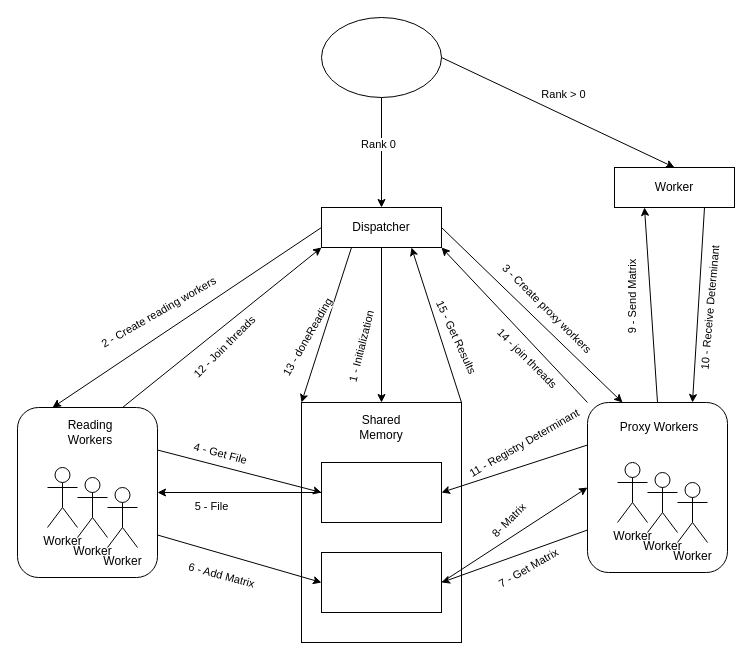
This 752x660 diagram has some shape labels left out. The box of each missing label's shape, as (x1, y1, x2, y2) in pixels:
Array de FileHandlers: (320, 462, 442, 522)
Circular Queue: (320, 552, 442, 612)
Main: (320, 16, 442, 98)
